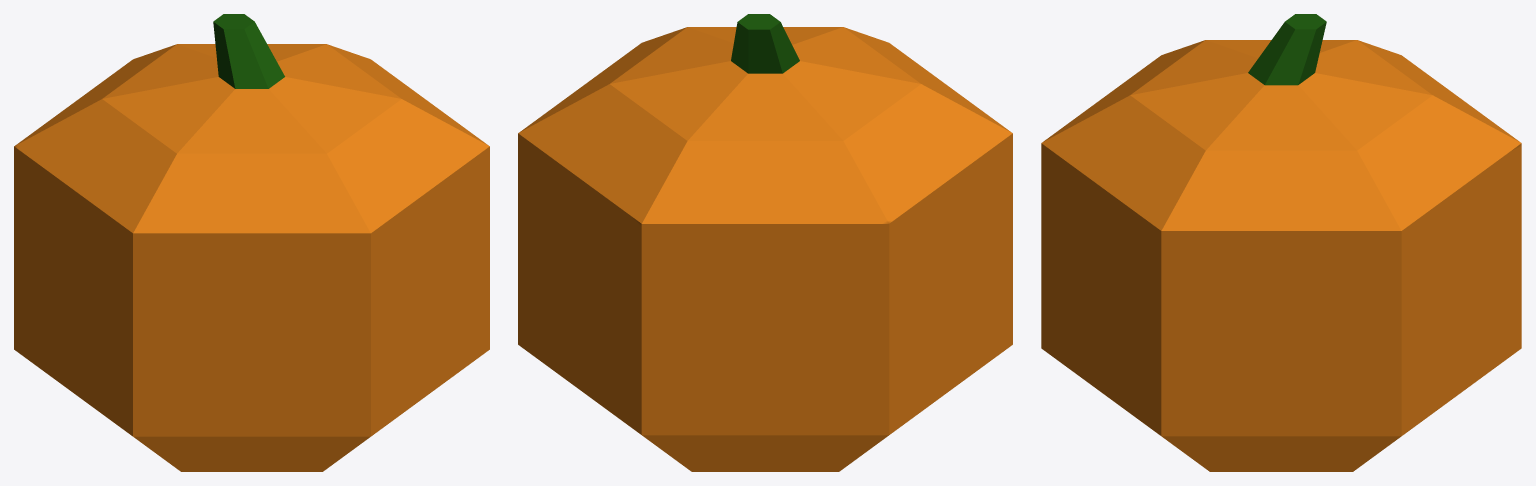
File: Pumpkin.glb
3 views of the same model, side by side, from view 1: azimuth 30°, elevation 25°; view 2: azimuth 150°, elevation 25°; view 3: azimuth 270°, elevation 25° (orthographic). The views are drawn at different scales.
Visible parts, largest first — view 1: Cylinder; view 2: Cylinder; view 3: Cylinder.
Boxes of the visible parts, x1,y1,x2,y2 form: Cylinder: (14, 14, 489, 471); Cylinder: (518, 14, 1012, 471); Cylinder: (1041, 14, 1521, 471).
Size of the model in its own units: 1.77 by 1.86 by 2.05.
Materials: 1 (1 with a texture image).
